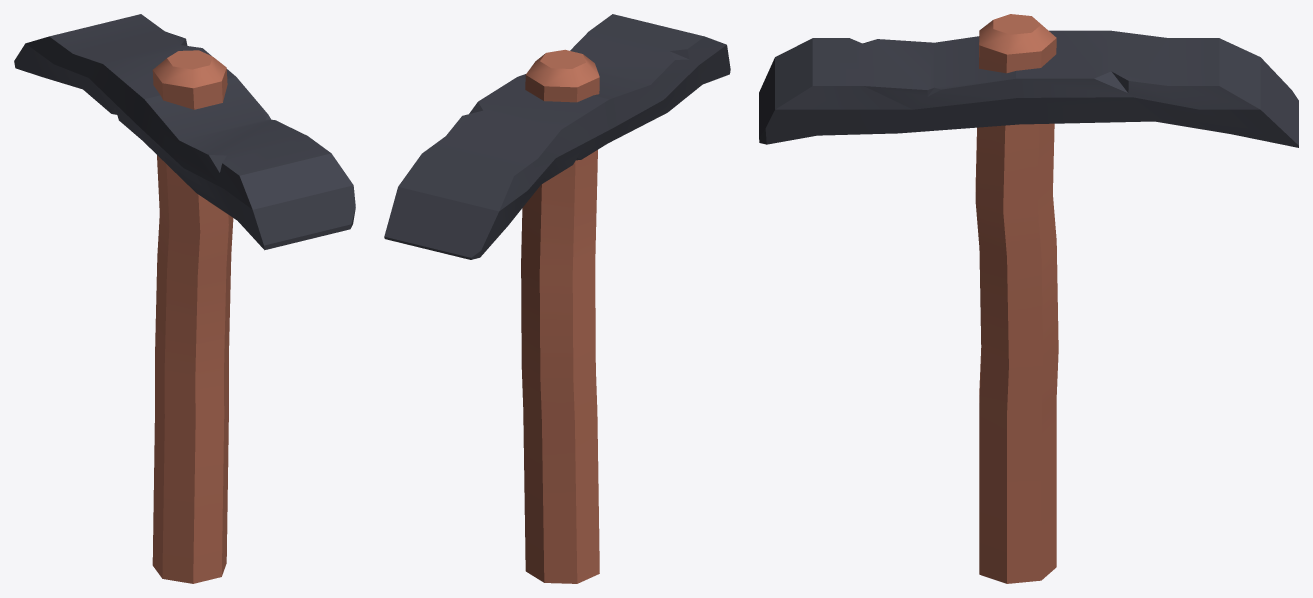
The model's file is Pickaxe.fbx.
The picture shows the model from 3 angles, left to right: view 1: azimuth 30°, elevation 25°; view 2: azimuth 150°, elevation 25°; view 3: azimuth 270°, elevation 25°; orthographic projection. The views are drawn at different scales.
Visible parts, largest first — view 1: Pickaxe; view 2: Pickaxe; view 3: Pickaxe.
Part boxes in pixels (<box>): Pickaxe: <box>14,14,355,583</box>; Pickaxe: <box>384,14,730,583</box>; Pickaxe: <box>759,14,1298,583</box>.
Bounding box in the file's own units: 0.2887 × 1.35 × 1.21.
